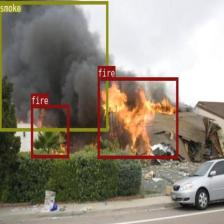fire: (97, 77, 178, 158), (30, 104, 68, 157)
smoke: (0, 0, 107, 130)
